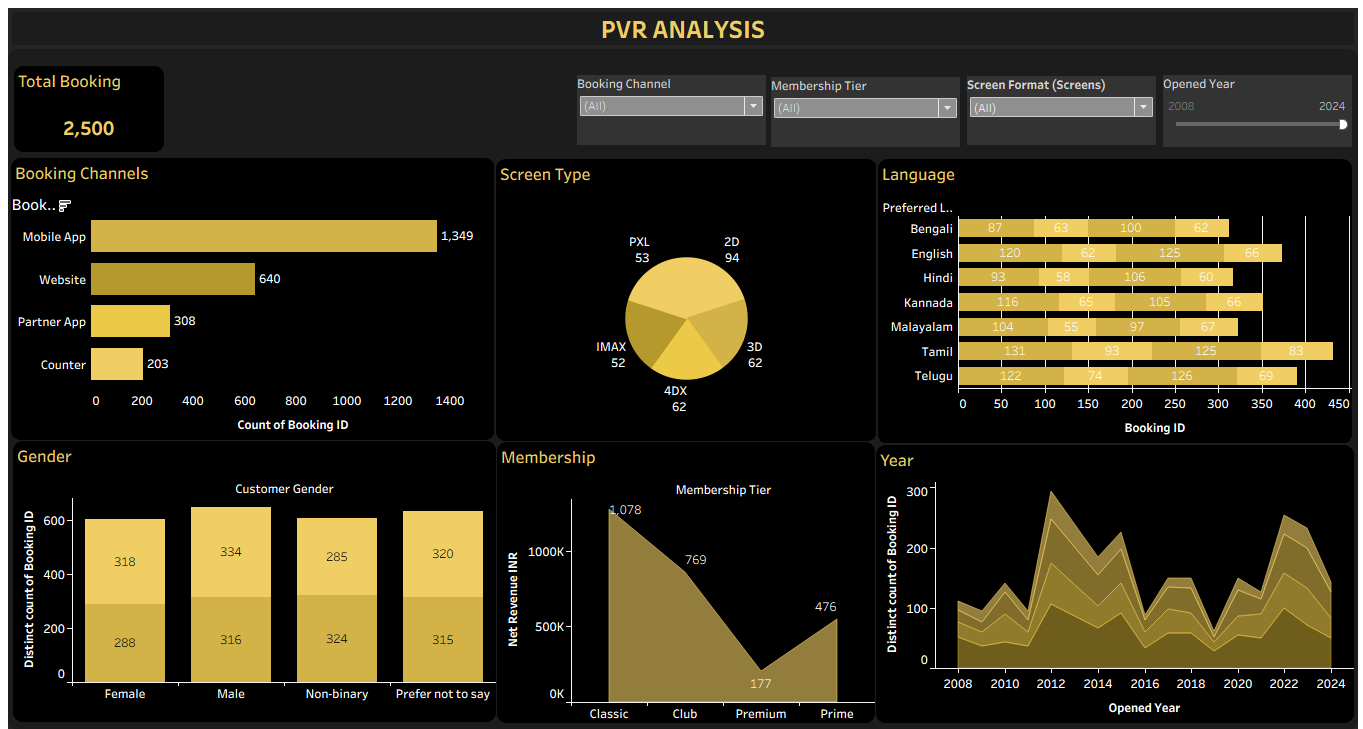

The dashboard page shown, as its layout file describes it:
{"tool":"tableau","page":{"name":"PVR Analysis","canvas":[1000,1000],"units":"permille","ordinal":0},"visuals":[{"type":"title","box":[6.9,13.7,986.1,70.2]},{"type":"worksheet","title":"Total Booking","mark":"Automatic","box":[10.4,89,110,116.4]},{"type":"filter","title":"Booking Channels","param":"[federated.18lr7t00le02ku1fw92wc1k2qu31].[none:Booking_Channel:nk]","box":[422.5,101,138.5,95.9]},{"type":"filter","title":"Year","param":"[federated.18lr7t00le02ku1fw92wc1k2qu31].[none:Opened_Year:qk]","box":[851.1,101,138.5,97.6]},{"type":"filter","title":"Screen","param":"[federated.18lr7t00le02ku1fw92wc1k2qu31].[none:Screen_Format (Screens):nk]","box":[708.2,102.7,138.5,94.2]},{"type":"filter","title":"Membership","param":"[federated.18lr7t00le02ku1fw92wc1k2qu31].[none:Membership_Tier:nk]","box":[564.5,104.5,138.5,94.2]},{"type":"worksheet","title":"Booking Channels","mark":"Automatic","rows":["Booking_Channel"],"cols":["Booking_ID"],"box":[7.8,214,354.1,381.9]},{"type":"worksheet","title":"Screen","mark":"Pie","box":[362.8,215.8,278.8,381.9]},{"type":"worksheet","title":"Language","mark":"Automatic","rows":["Preferred_Language"],"cols":["Booking_ID"],"box":[642.4,215.8,347.2,385.3]},{"type":"worksheet","title":"Gender","mark":"Automatic","rows":["Booking_ID"],"cols":["Customer_Gender"],"box":[9.5,597.6,353.2,380.1]},{"type":"worksheet","title":"Membership","mark":"Area","rows":["Net_Revenue_INR"],"cols":["Membership_Tier"],"box":[363.6,599.3,277.1,380.1]},{"type":"worksheet","title":"Year","mark":"Area","rows":["Booking_ID"],"cols":["Opened_Year"],"box":[641.6,602.7,349.8,376.7]}]}

Visuals, with their boxes on the dashboard's canvas, which has no fixed pixel size, in thousandths of its width and height (x1, y1, x2, y2). These are canvas units, not pixel positions in the 1363x729 screenshot, which may show the page scaled, cropped or inside an application window:
title: bbox(7, 14, 993, 84)
"Total Booking" worksheet: bbox(10, 89, 120, 205)
"Booking Channels" filter: bbox(422, 101, 561, 197)
"Year" filter: bbox(851, 101, 990, 199)
"Screen" filter: bbox(708, 103, 847, 197)
"Membership" filter: bbox(564, 104, 703, 199)
"Booking Channels" worksheet: bbox(8, 214, 362, 596)
"Screen" worksheet (Pie marks): bbox(363, 216, 642, 598)
"Language" worksheet: bbox(642, 216, 990, 601)
"Gender" worksheet: bbox(10, 598, 363, 978)
"Membership" worksheet (Area marks): bbox(364, 599, 641, 979)
"Year" worksheet (Area marks): bbox(642, 603, 991, 979)
